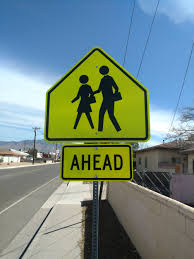slow: (46, 47, 151, 143)
